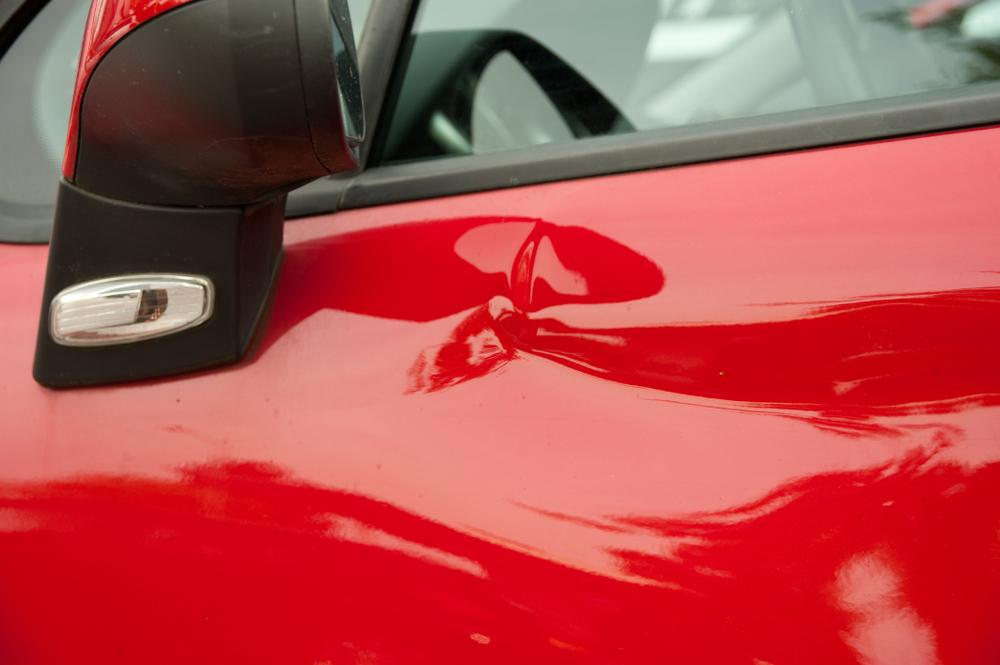dent: (280, 215, 1000, 512)
